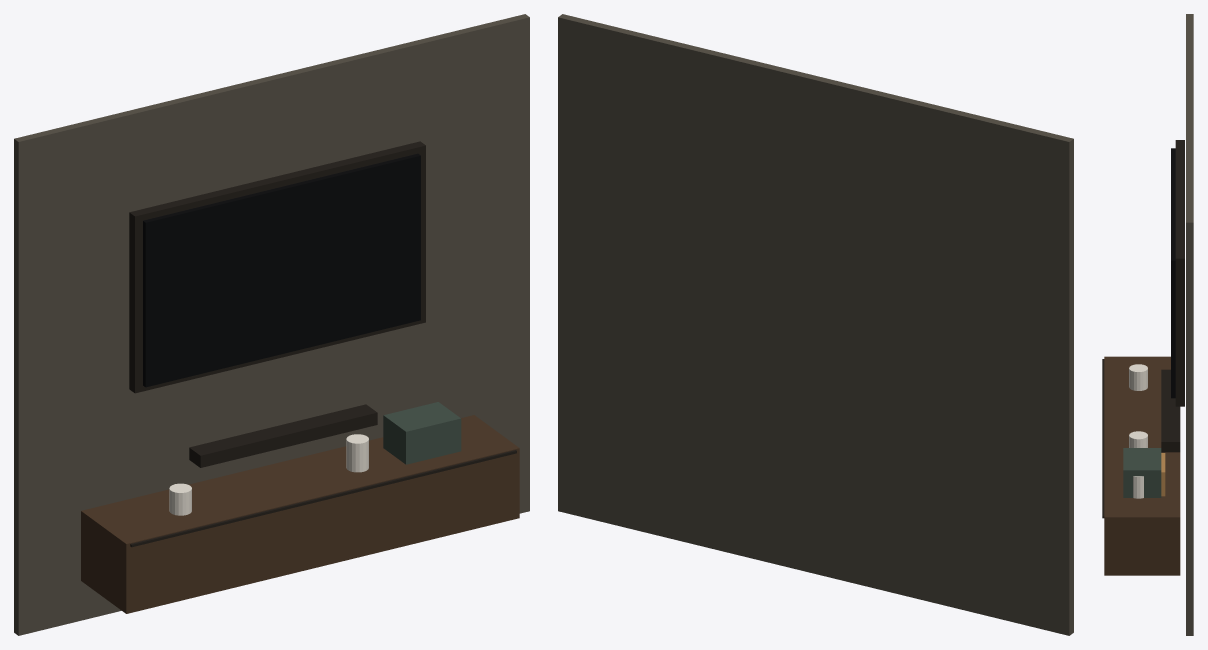
The picture shows the model from 3 angles, left to right: view 1: azimuth 30°, elevation 25°; view 2: azimuth 150°, elevation 25°; view 3: azimuth 270°, elevation 25°; orthographic projection. The views are drawn at different scales.
Parts seen in each view (by area): view 1: tv-wall; view 2: tv-wall; view 3: tv-wall.
Boxes of the visible parts, x1=… form: tv-wall: x1=14, y1=14, x2=529, y2=635; tv-wall: x1=558, y1=14, x2=1073, y2=635; tv-wall: x1=1102, y1=14, x2=1193, y2=635.
Bounding box in the file's own units: 2.6 × 2.4 × 0.481.
